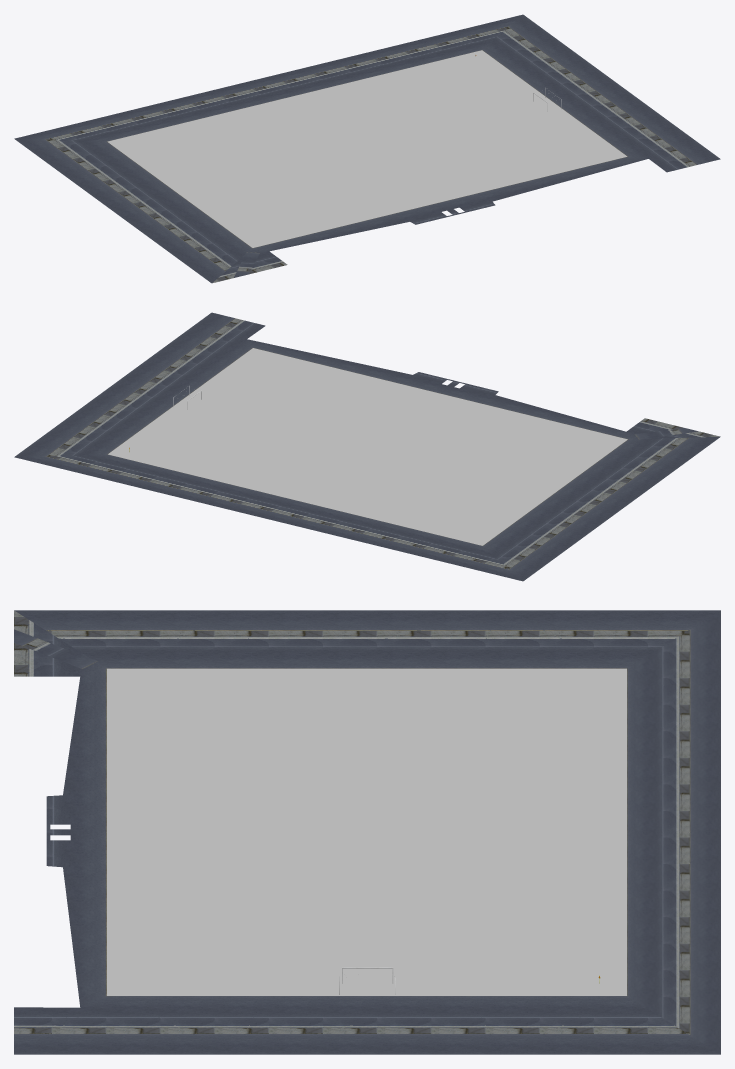
Rendered from CampoBase.FBX.
3 views of the same model, one above another, from view 1: azimuth 30°, elevation 25°; view 2: azimuth 150°, elevation 25°; view 3: azimuth 270°, elevation 25° (orthographic). The views are drawn at different scales.
Parts seen in each view (by area): view 1: Cesped; view 2: Cesped; view 3: Cesped.
Part boxes in pixels (x1=…): Cesped: x1=14, y1=14, x2=720, y2=283; Cesped: x1=14, y1=312, x2=720, y2=581; Cesped: x1=14, y1=610, x2=720, y2=1054.
Size of the model in its own units: 15423 by 294 by 10373.
